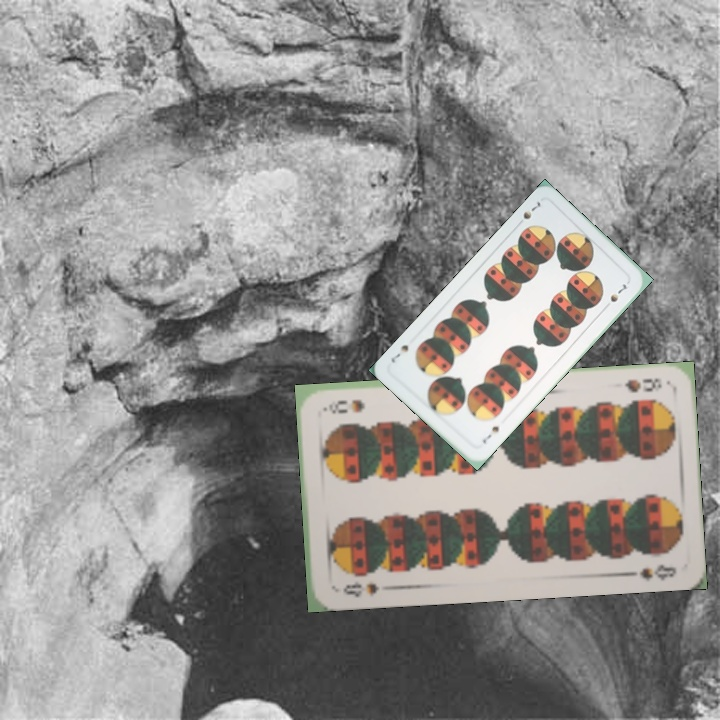S7: (513, 197, 543, 229), (479, 422, 502, 446)
S8: (339, 577, 381, 599), (621, 374, 665, 395)
